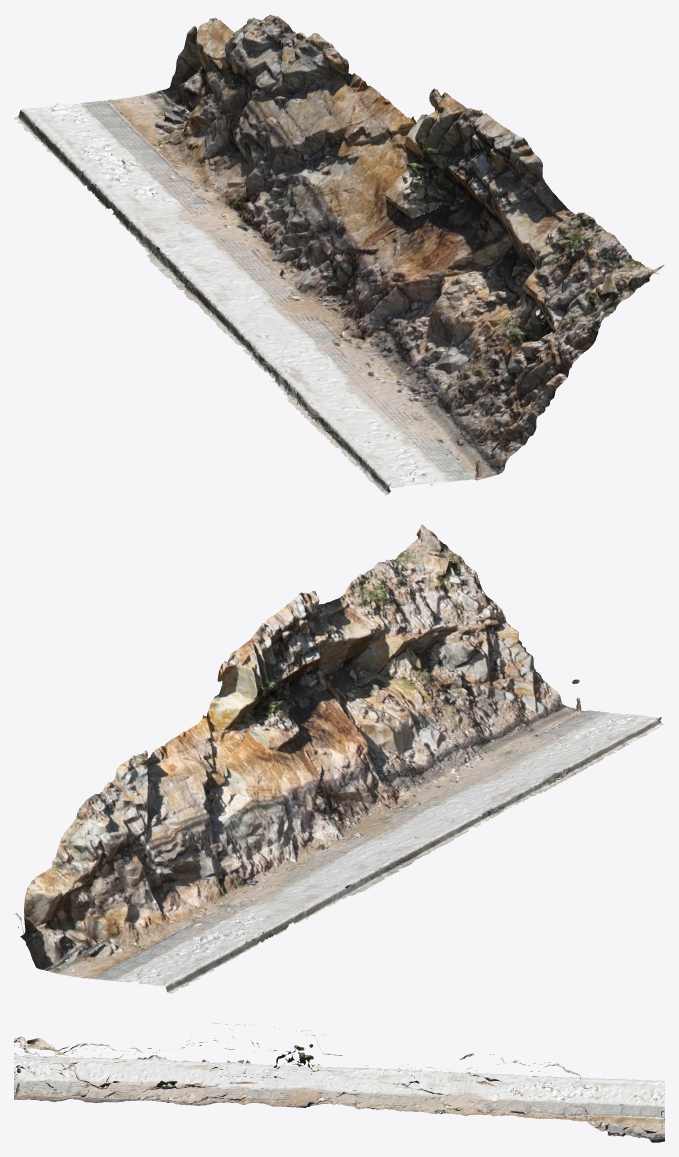
The picture shows the model from 3 angles, top to bottom: view 1: azimuth 30°, elevation 25°; view 2: azimuth 150°, elevation 25°; view 3: azimuth 270°, elevation 25°; orthographic projection. The views are drawn at different scales.
Bounding box in the file's own units: 5.25 × 3.47 × 15.26.
1 material, 1 textured.
